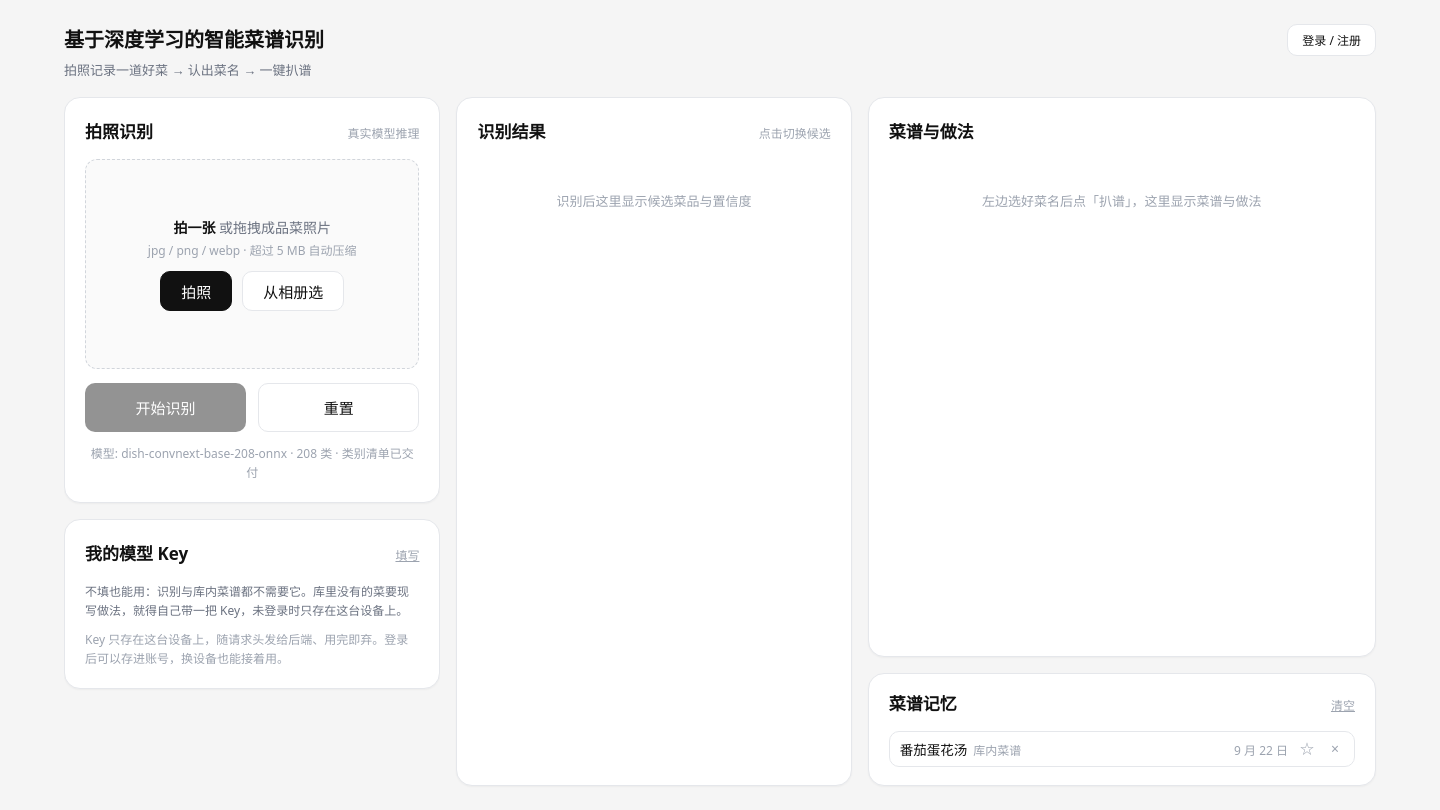
Scenario: RecipeRecommendPage 菜谱记忆（FR-15） › 删掉一条后列表里不再出现，存储里也清了
The image size is (1440, 810).
Click the button named "删除 番茄蛋花汤".
click(1335, 749)  # box [1322, 736, 1348, 762]
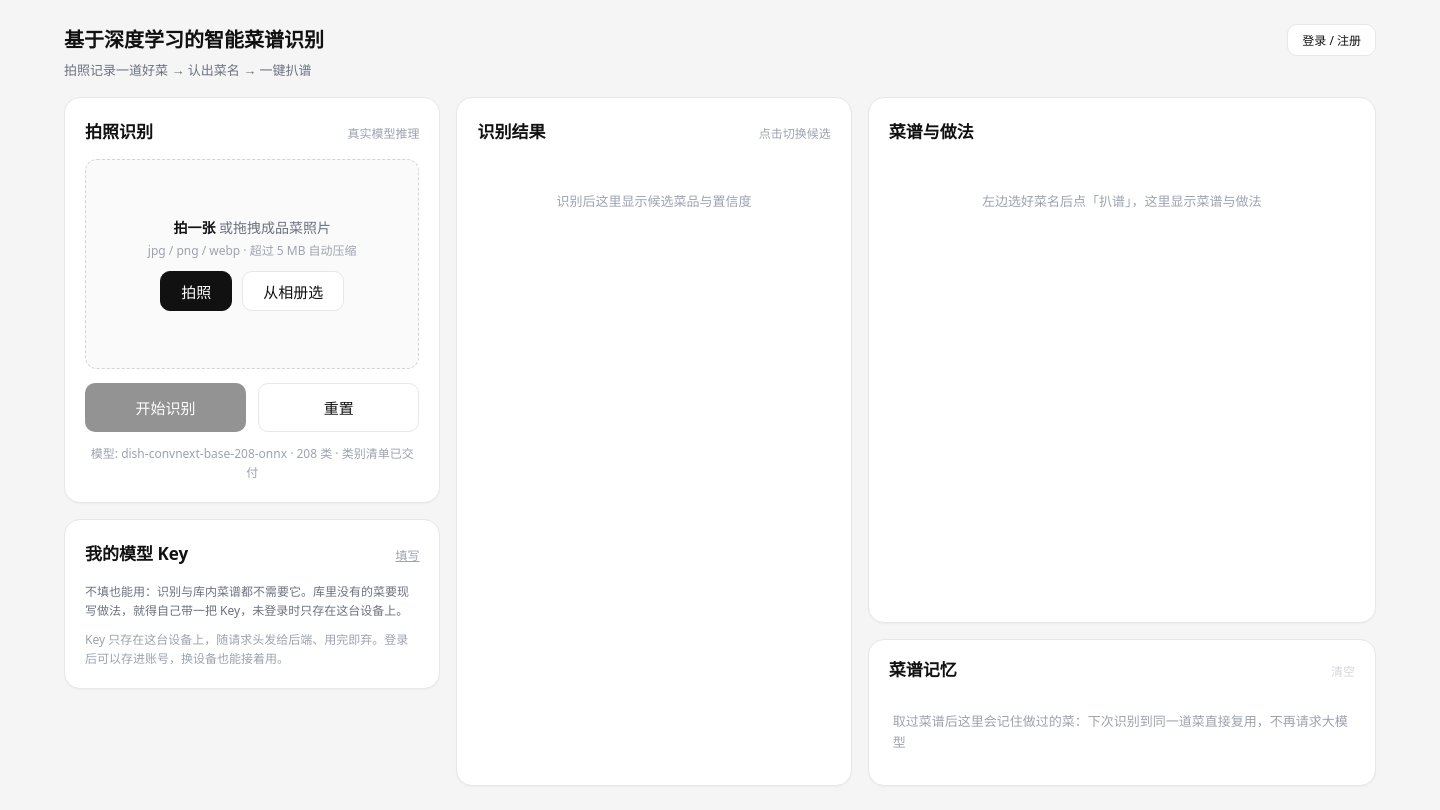
Check: the text "取过菜谱后这里会记住做过的菜：下次识别到同一道菜直接复用，不再请求大模型" is shown, box [893, 712, 1348, 751]
